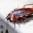cockroach: (7, 7, 33, 23)
